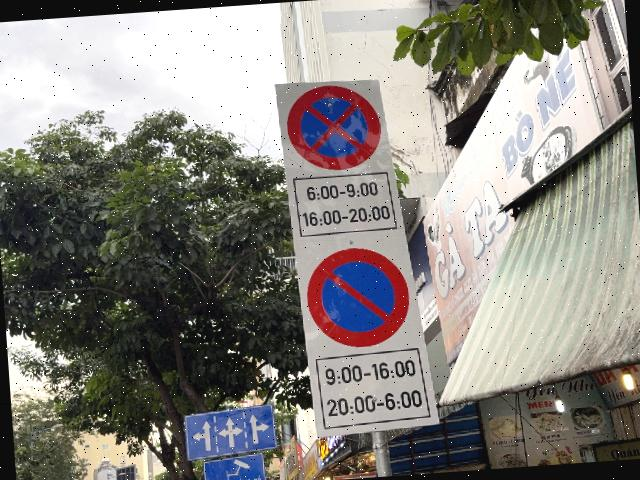cam-do-xe: (304, 243, 412, 350)
cam-dung-va-do-xe: (284, 82, 383, 173)
